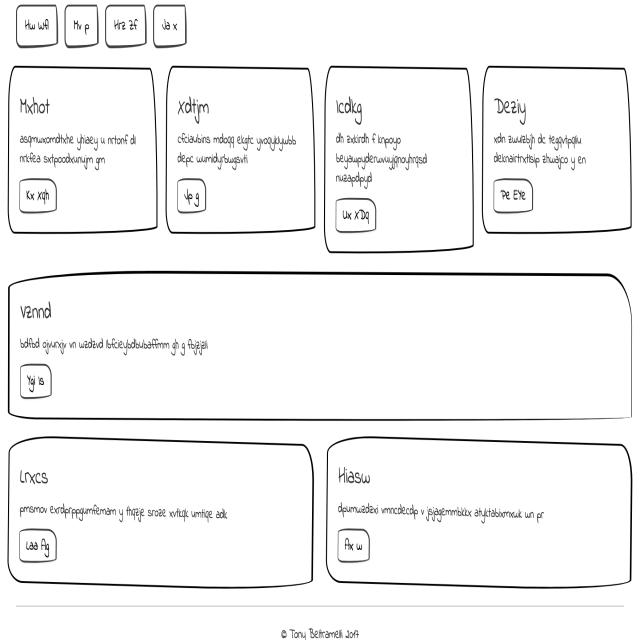Button: (15, 173, 60, 219), (17, 355, 58, 404), (492, 178, 540, 218), (332, 196, 378, 237), (18, 524, 63, 565), (177, 173, 211, 220), (334, 523, 371, 565)
Card: (7, 261, 635, 426), (6, 432, 316, 594), (326, 438, 634, 594), (322, 52, 476, 255), (479, 50, 635, 239), (5, 57, 161, 239), (167, 64, 317, 237)
Footer: (4, 594, 638, 640)
Heading 6: (494, 86, 539, 129), (14, 86, 61, 121), (334, 93, 381, 126), (176, 92, 218, 123), (19, 298, 62, 328), (18, 462, 59, 493), (338, 453, 376, 486)
Navigation Bar: (15, 0, 214, 47)
Paragraph: (334, 487, 562, 526), (331, 123, 449, 197), (492, 126, 614, 178), (12, 124, 140, 173), (18, 501, 237, 527), (177, 126, 299, 172), (20, 331, 212, 351)
